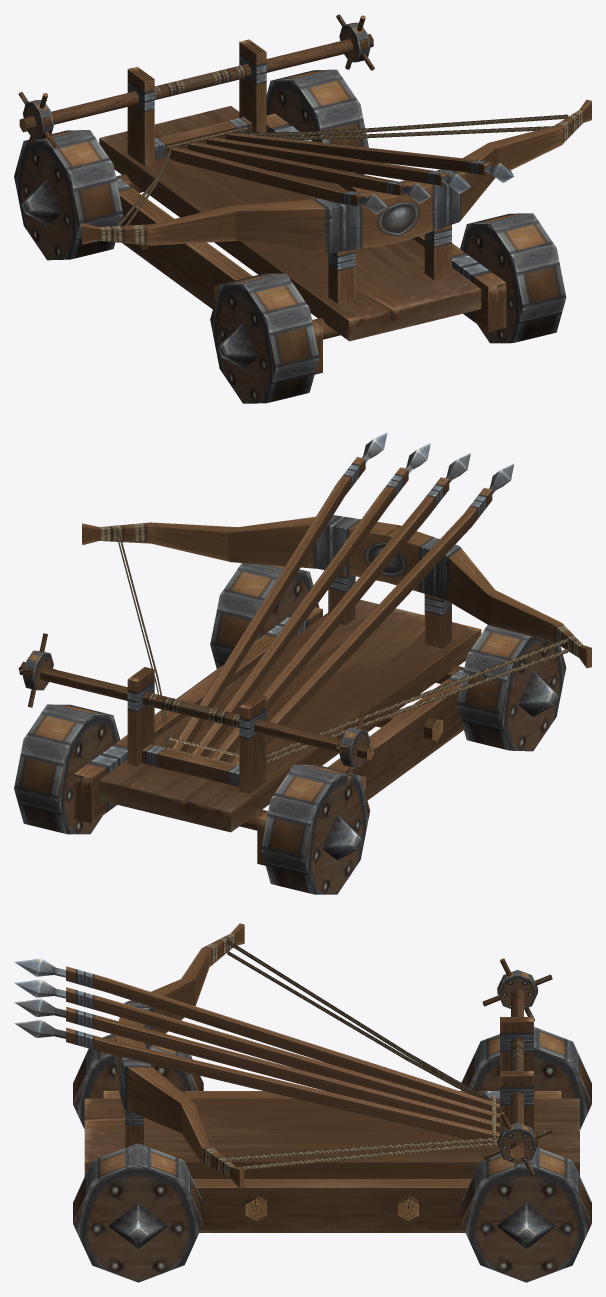
Rendered from 4008_Item_zhanche_3.FBX.
3 views of the same model, one above another, from view 1: azimuth 30°, elevation 25°; view 2: azimuth 150°, elevation 25°; view 3: azimuth 270°, elevation 25° (orthographic).
Parts seen in each view (by area): view 1: 4008_Item_zhanche_3; view 2: 4008_Item_zhanche_3; view 3: 4008_Item_zhanche_3.
Boxes of the visible parts, bbox=[...] form: 4008_Item_zhanche_3: bbox=[14, 14, 591, 403]; 4008_Item_zhanche_3: bbox=[14, 432, 591, 894]; 4008_Item_zhanche_3: bbox=[14, 923, 591, 1282].
Size of the model in its own units: 506 by 214 by 502.
